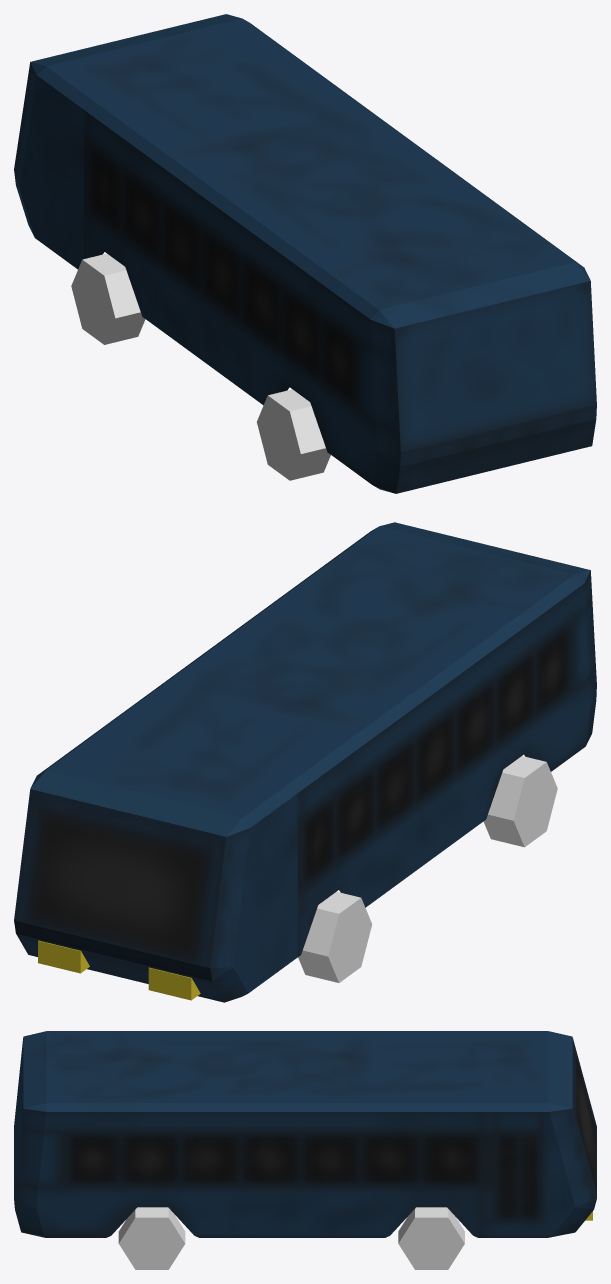
The model's file is Vehiculos.fbx.
3 renders of one model, top to bottom at view 1: azimuth 30°, elevation 25°; view 2: azimuth 150°, elevation 25°; view 3: azimuth 270°, elevation 25°, orthographic. The views are drawn at different scales.
Visible parts, largest first — view 1: Bus, BusWheel, BusWheel.001; view 2: Bus, BusWheel.001, BusWheel; view 3: Bus, BusWheel.001, BusWheel.
Part boxes in pixels (x1,y1,x2,y2): Bus: (14,14,596,493); BusWheel: (71,253,145,344); BusWheel.001: (257,389,330,480); Bus: (14,522,596,1002); BusWheel.001: (483,756,557,847); BusWheel: (298,891,372,982); Bus: (14,1031,596,1237); BusWheel.001: (118,1207,185,1269); BusWheel: (398,1207,464,1269).
Bounding box in the file's own units: 601 × 462 × 1568.
1 material, 1 textured.
